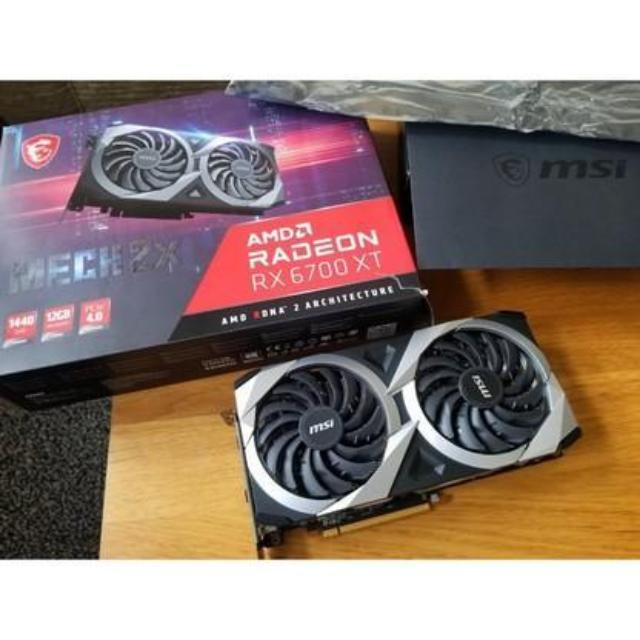GPU: (251, 310, 563, 541)
